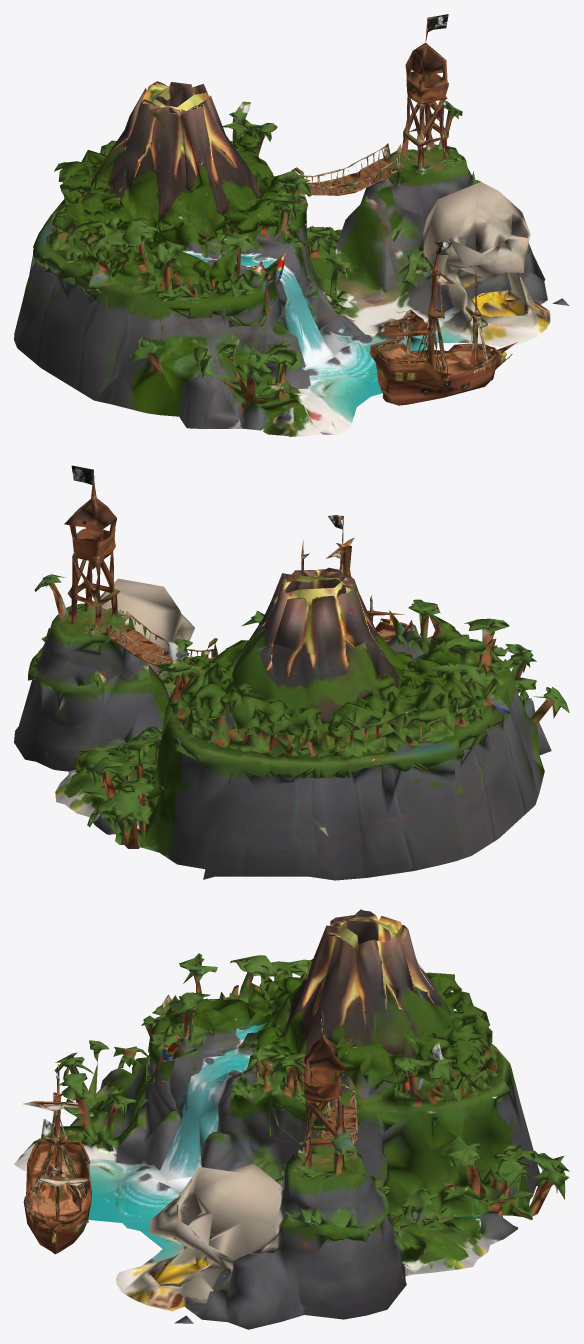
File: m_volcano.glb
3 views of the same model, one above another, from view 1: azimuth 30°, elevation 25°; view 2: azimuth 150°, elevation 25°; view 3: azimuth 270°, elevation 25° (orthographic). The views are drawn at different scales.
Bounding box in the file's own units: 0.8946 × 0.4808 × 0.8551.
Materials: 1 (1 with a texture image).
